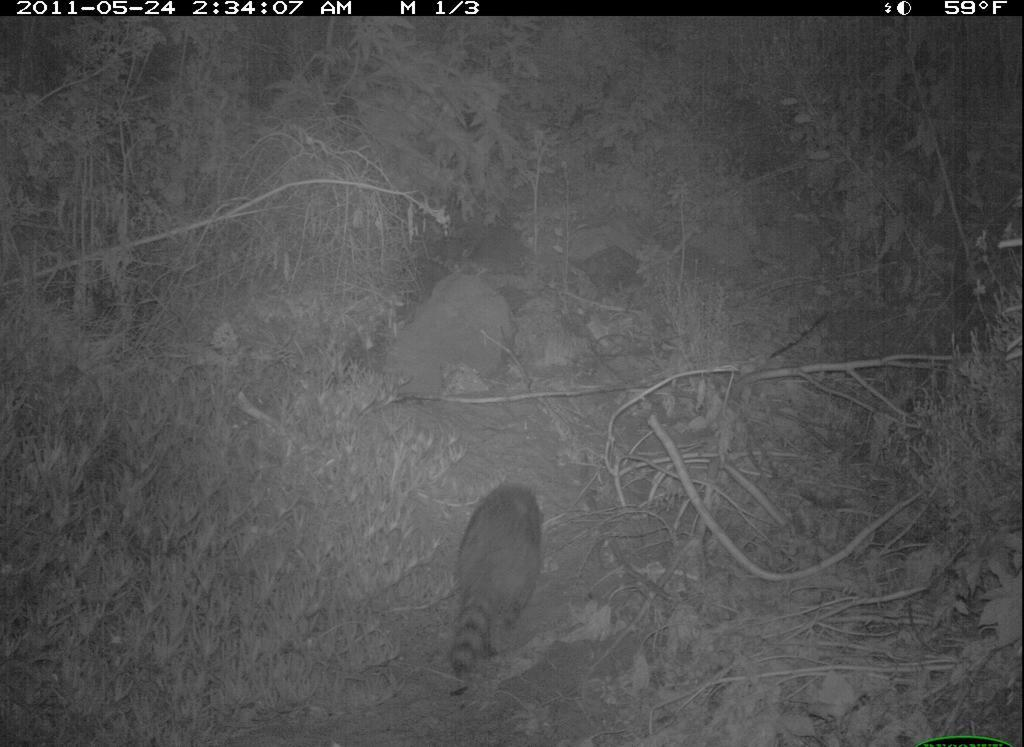raccoon: (441, 473, 552, 690)
